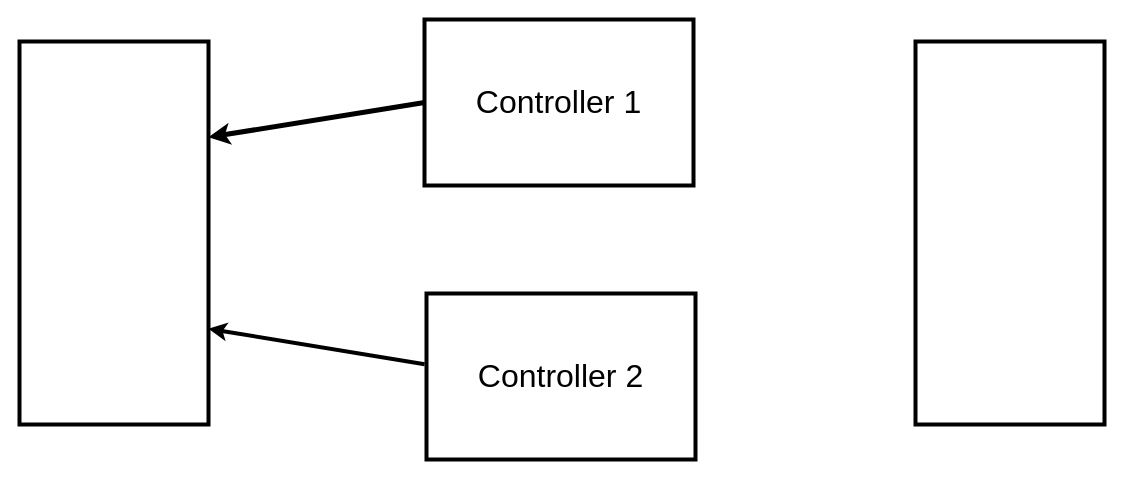
This 1123x478 diagram has some shape labels left out. The centre of each missing label's shape, as x and y in pixels:
"Mailgun Mailer" goes at point 113,232.
"SendGrid Mailer" goes at point 1009,232.
